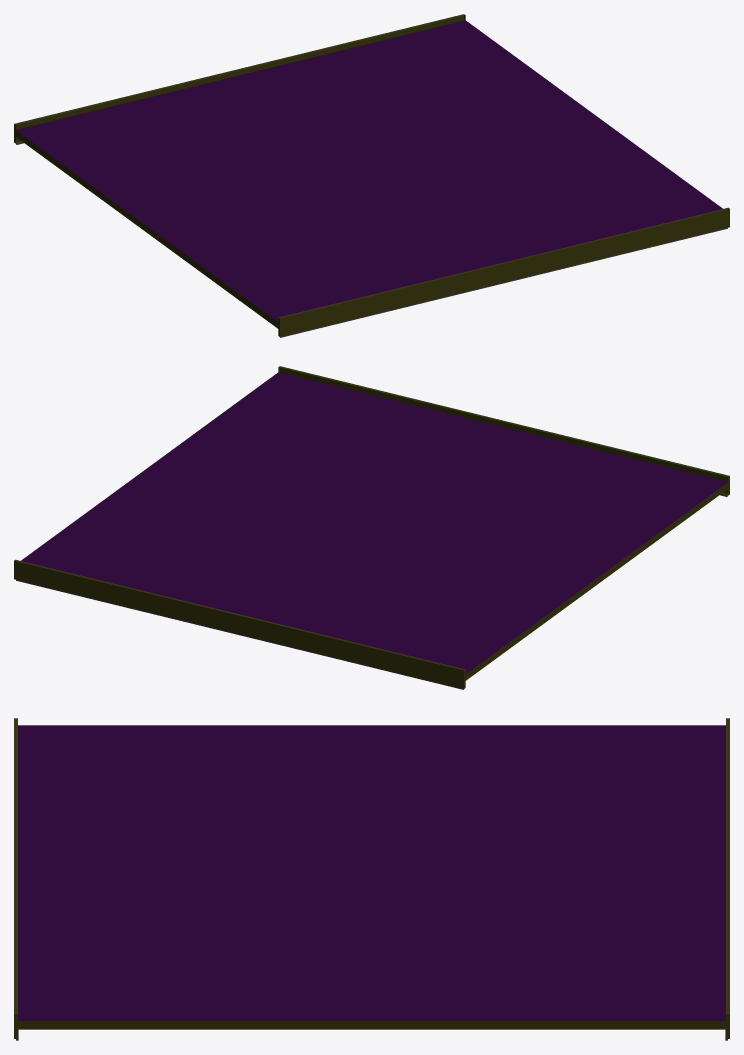
Rendered from monorail_roof.glb.
3 views of the same model, one above another, from view 1: azimuth 30°, elevation 25°; view 2: azimuth 150°, elevation 25°; view 3: azimuth 270°, elevation 25° (orthographic). The views are drawn at different scales.
Visible parts, largest first — view 1: monorail_roof; view 2: monorail_roof; view 3: monorail_roof.
Boxes of the visible parts, x1=… form: monorail_roof: x1=14, y1=14, x2=729, y2=337; monorail_roof: x1=14, y1=366, x2=729, y2=689; monorail_roof: x1=14, y1=718, x2=729, y2=1040.
Bounding box in the file's own units: 17 × 0.7307 × 17.4.
